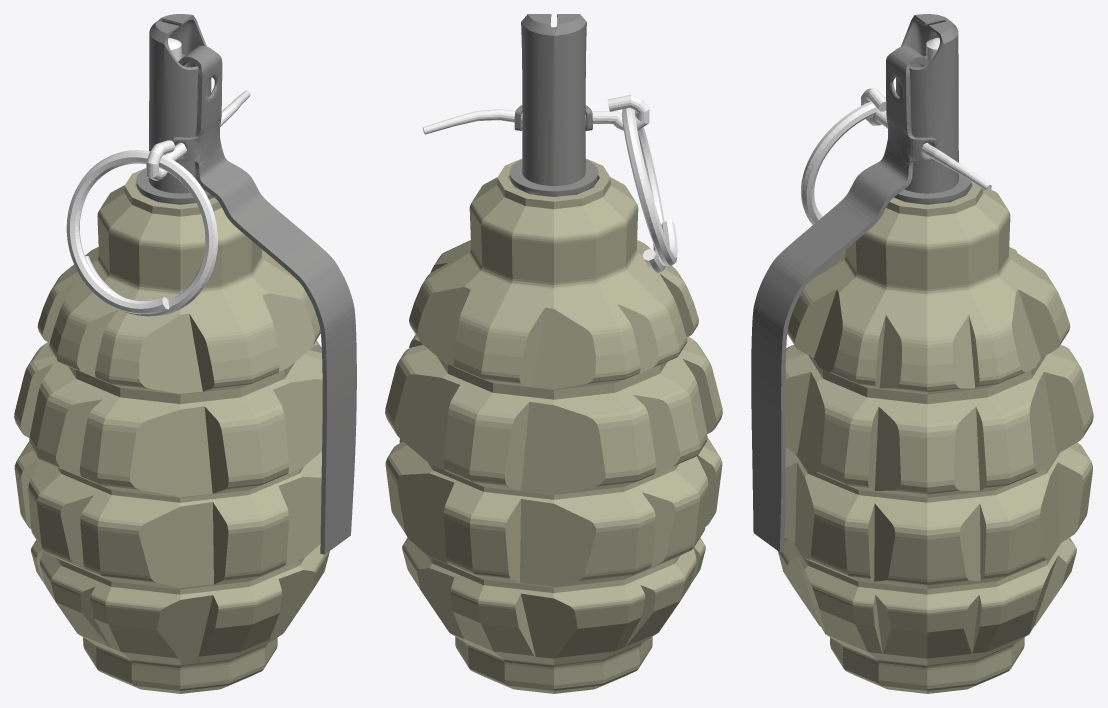
File: grenade.dae
3 renders of one model, left to right at view 1: azimuth 30°, elevation 25°; view 2: azimuth 150°, elevation 25°; view 3: azimuth 270°, elevation 25°, orthographic.
Parts seen in each view (by area): view 1: body, _, _5, _2, _3; view 2: body, _5, _2, _3; view 3: body, _, _5, _2, _3.
Part boxes in pixels (box(x1,y1,x2,y2)): body: box(14, 168, 329, 693); _: box(171, 45, 356, 554); _5: box(136, 14, 214, 204); _2: box(66, 150, 217, 316); _3: box(146, 90, 250, 180); body: box(385, 158, 722, 693); _5: box(509, 14, 598, 196); _2: box(622, 108, 677, 272); _3: box(422, 95, 649, 134); body: box(778, 181, 1093, 693); _: box(751, 45, 938, 551); _5: box(894, 14, 972, 204); _2: box(801, 97, 885, 224); _3: box(861, 88, 991, 191).
Size of the model in its own units: 109 by 112 by 230.
